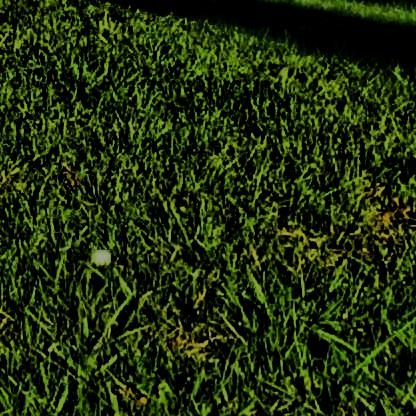golfball: (88, 245, 109, 264)
